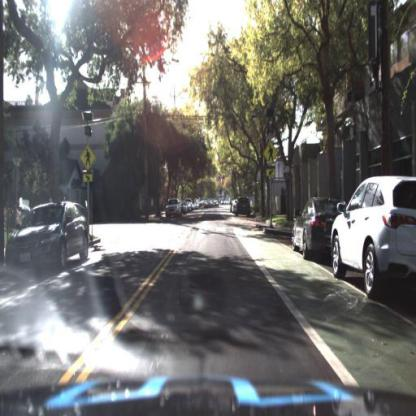car: (334, 169, 416, 299), (6, 197, 93, 277), (293, 194, 344, 262), (290, 199, 345, 256), (165, 198, 183, 222), (235, 194, 253, 217), (237, 195, 254, 216)
